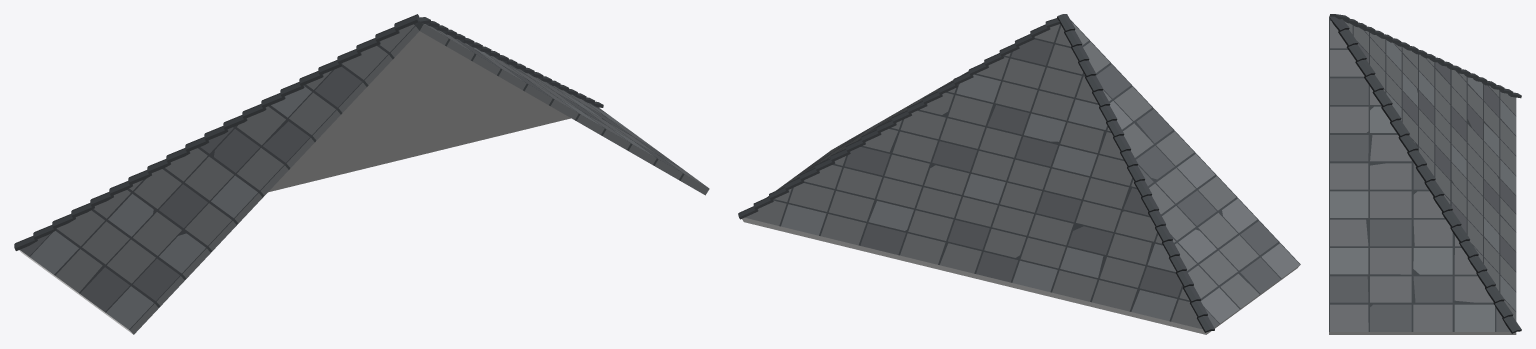
The model's file is Roof2_C8_02.fbx.
3 renders of one model, left to right at view 1: azimuth 30°, elevation 25°; view 2: azimuth 150°, elevation 25°; view 3: azimuth 270°, elevation 25°, orthographic. The views are drawn at different scales.
Visible parts, largest first — view 1: Roof2_C8_02; view 2: Roof2_C8_02; view 3: Roof2_C8_02.
Boxes of the visible parts, x1,y1,x2,y2 form: Roof2_C8_02: (14,14,709,334); Roof2_C8_02: (738,14,1300,334); Roof2_C8_02: (1329,14,1521,334).
Size of the model in its own units: 846 by 339 by 289.
